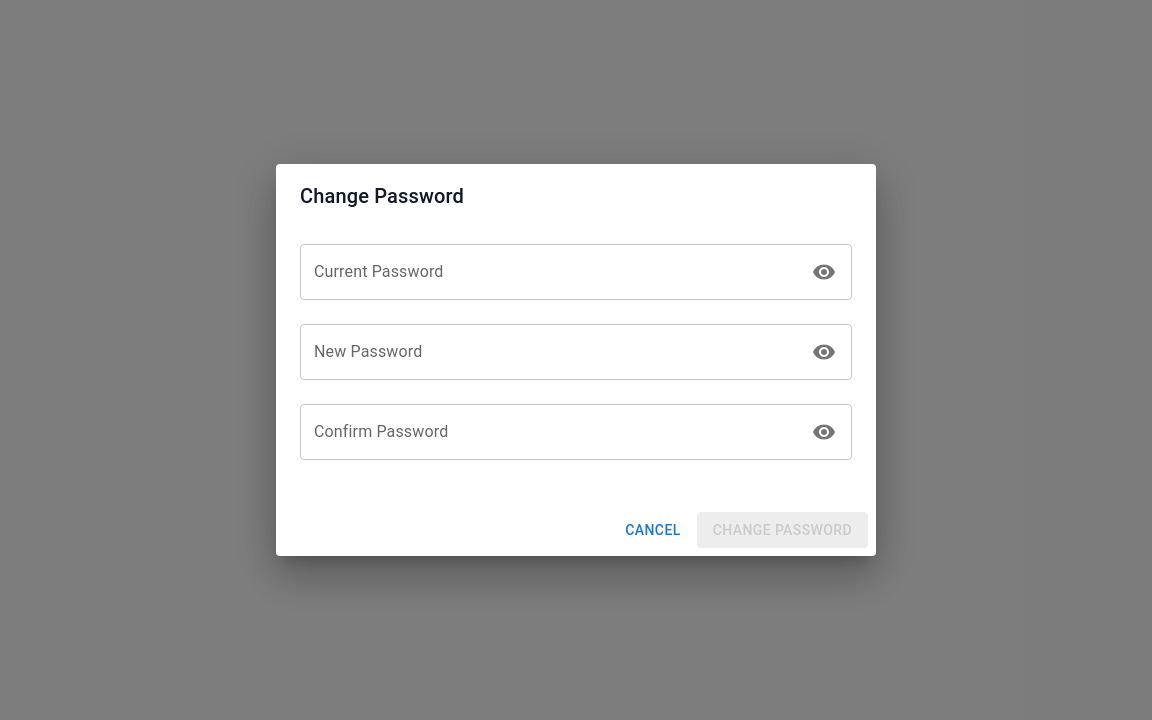
Test case: ChangePasswordModal › Password Strength Indicator › should mark requirements as met when password meets them
This screenshot has width=1152, height=720.
Type "ValidPassword123!" into the password field labelled "New Password". click: (554, 352)
box: left=300, top=324, right=807, bottom=380
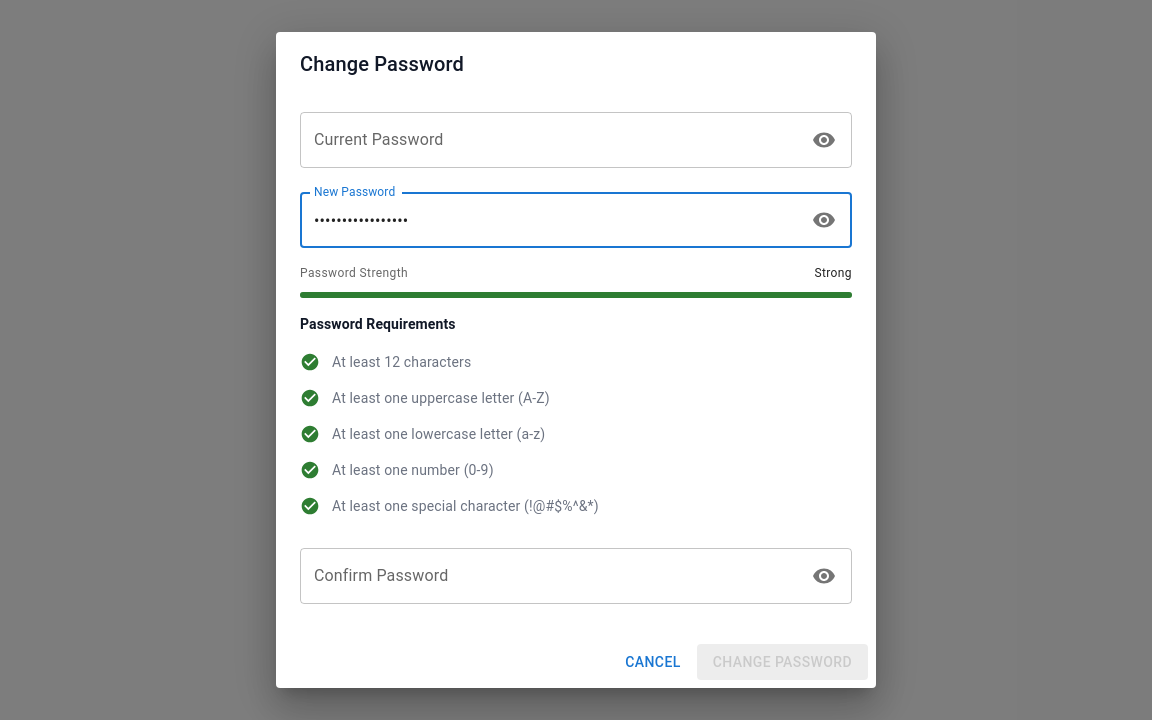
Expected: the icon with test id "CheckCircleIcon" next to "At least 12 characters" is shown, left=300, top=352, right=320, bottom=372
